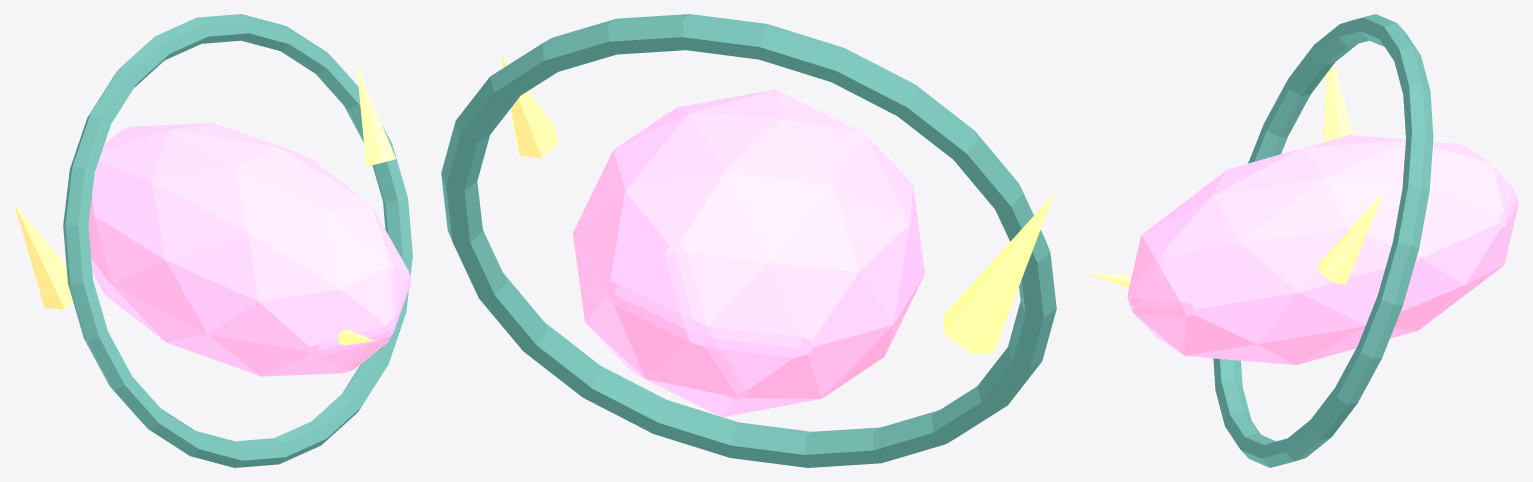
Rendered from echo_production.glb.
The picture shows the model from 3 angles, left to right: view 1: azimuth 30°, elevation 25°; view 2: azimuth 150°, elevation 25°; view 3: azimuth 270°, elevation 25°; orthographic projection. The views are drawn at different scales.
Parts seen in each view (by area): view 1: Echo_Core, Echo_Broken_Ring, Echo_Resonance_Shard_01, Echo_Resonance_Shard_02; view 2: Echo_Core, Echo_Broken_Ring, Echo_Resonance_Shard_01, Echo_Resonance_Shard_02; view 3: Echo_Core, Echo_Broken_Ring, Echo_Resonance_Shard_02, Echo_Resonance_Shard_01.
Part boxes in pixels (bbox=[...]): Echo_Core: bbox=[88, 123, 410, 376]; Echo_Broken_Ring: bbox=[63, 14, 412, 467]; Echo_Resonance_Shard_01: bbox=[14, 203, 72, 308]; Echo_Resonance_Shard_02: bbox=[356, 63, 395, 166]; Echo_Core: bbox=[573, 89, 924, 417]; Echo_Broken_Ring: bbox=[441, 14, 1056, 467]; Echo_Resonance_Shard_01: bbox=[943, 194, 1053, 353]; Echo_Resonance_Shard_02: bbox=[501, 54, 558, 158]; Echo_Core: bbox=[1127, 135, 1518, 365]; Echo_Broken_Ring: bbox=[1213, 14, 1433, 467]; Echo_Resonance_Shard_02: bbox=[1318, 192, 1383, 284]; Echo_Resonance_Shard_01: bbox=[1323, 63, 1353, 141].
Size of the model in its own units: 1.96 by 1.73 by 1.73.
